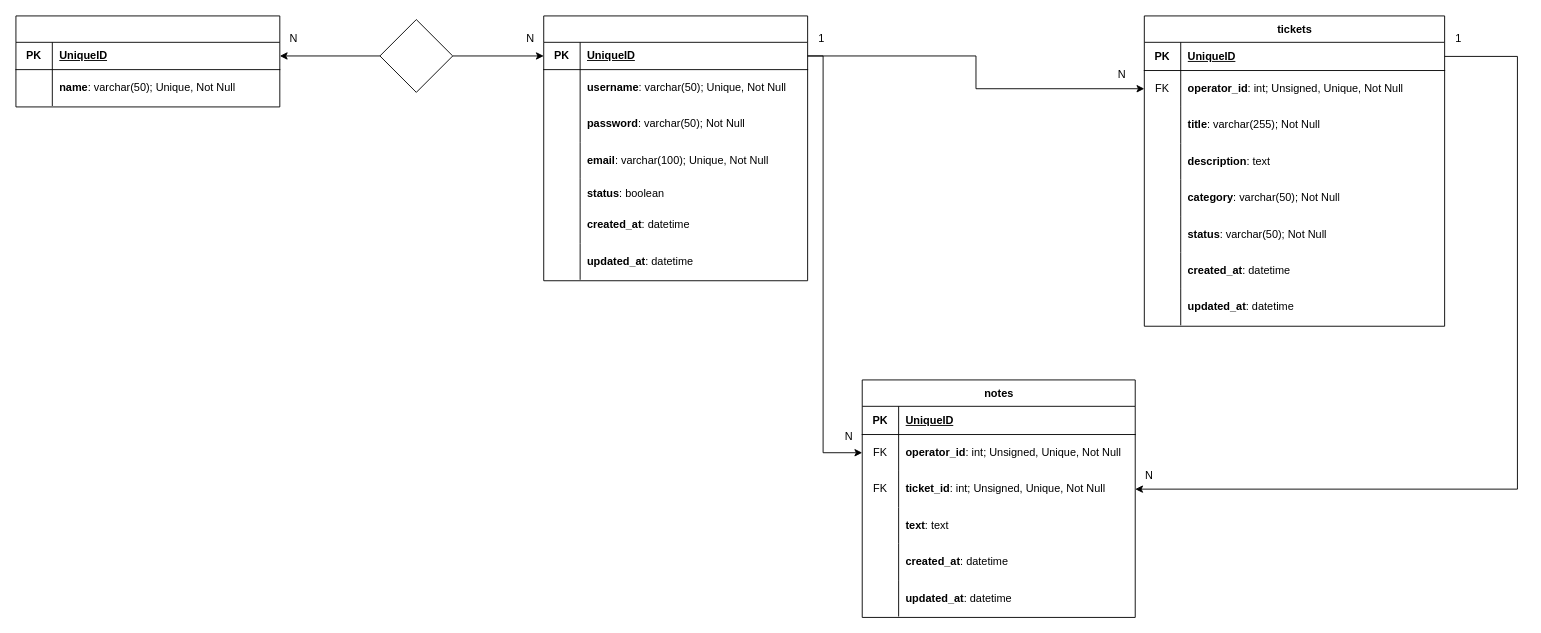
The diagram is 1541 pixels wide and 633 high, and some of its shapes have lost their labels. The box of each missing label's shape, as (x1, y1, x2, y2) in pixels:
roles: (15, 15, 280, 107)
users: (543, 15, 808, 281)
